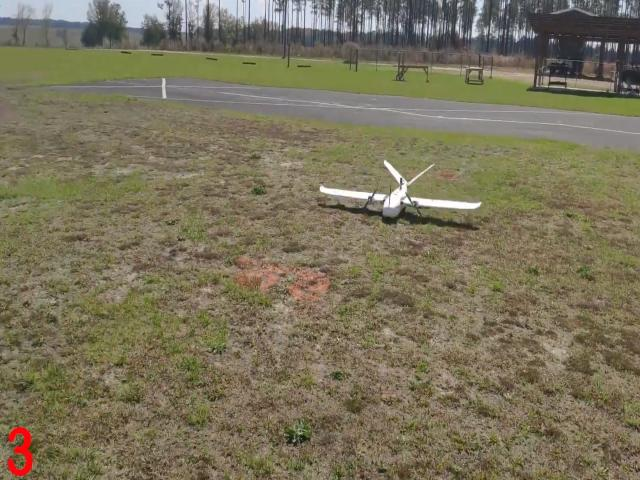plane: (321, 158, 482, 218)
